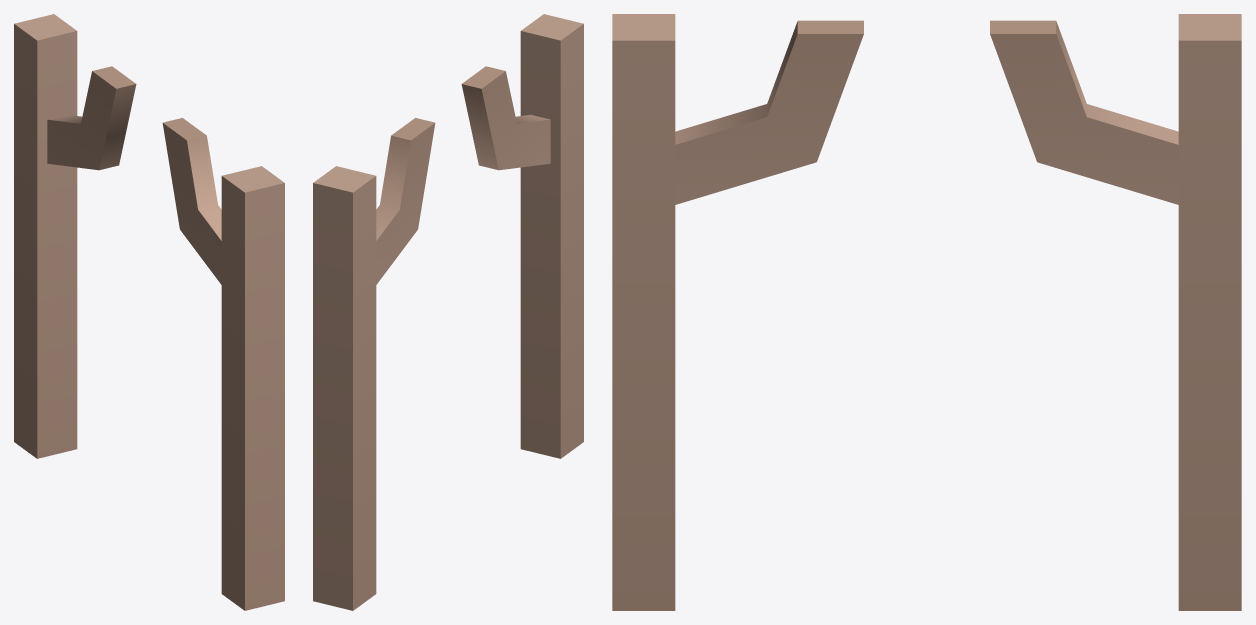
The model's file is balcony-wall.glb.
3 views of the same model, side by side, from view 1: azimuth 30°, elevation 25°; view 2: azimuth 150°, elevation 25°; view 3: azimuth 270°, elevation 25° (orthographic). The views are drawn at different scales.
Visible parts, largest first — view 1: balcony-wall; view 2: balcony-wall; view 3: balcony-wall.
Boxes of the visible parts, bbox=[...] form: balcony-wall: bbox=[14, 14, 284, 610]; balcony-wall: bbox=[313, 14, 583, 610]; balcony-wall: bbox=[612, 14, 1241, 610].
Size of the model in its own units: 0.1 by 1 by 1.
